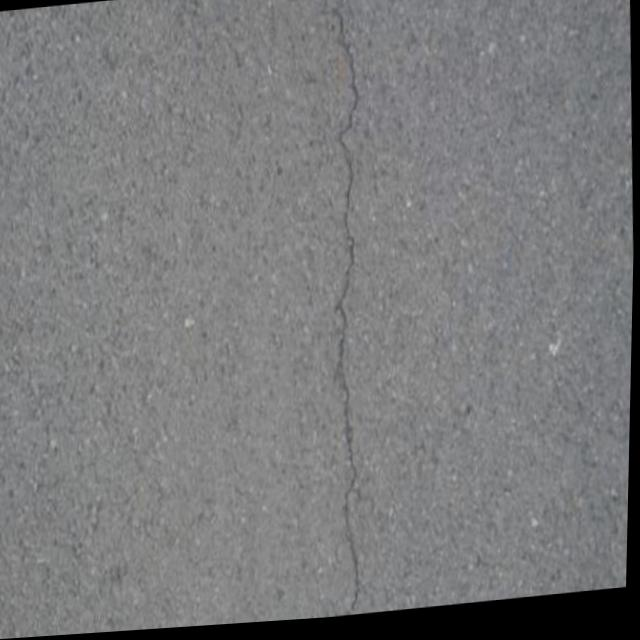Crack: (296, 0, 406, 623)
